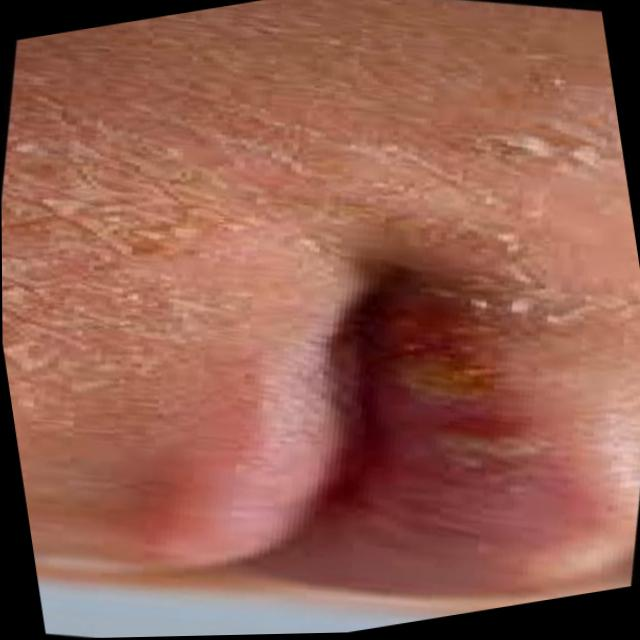Eczema: (0, 10, 640, 570)
